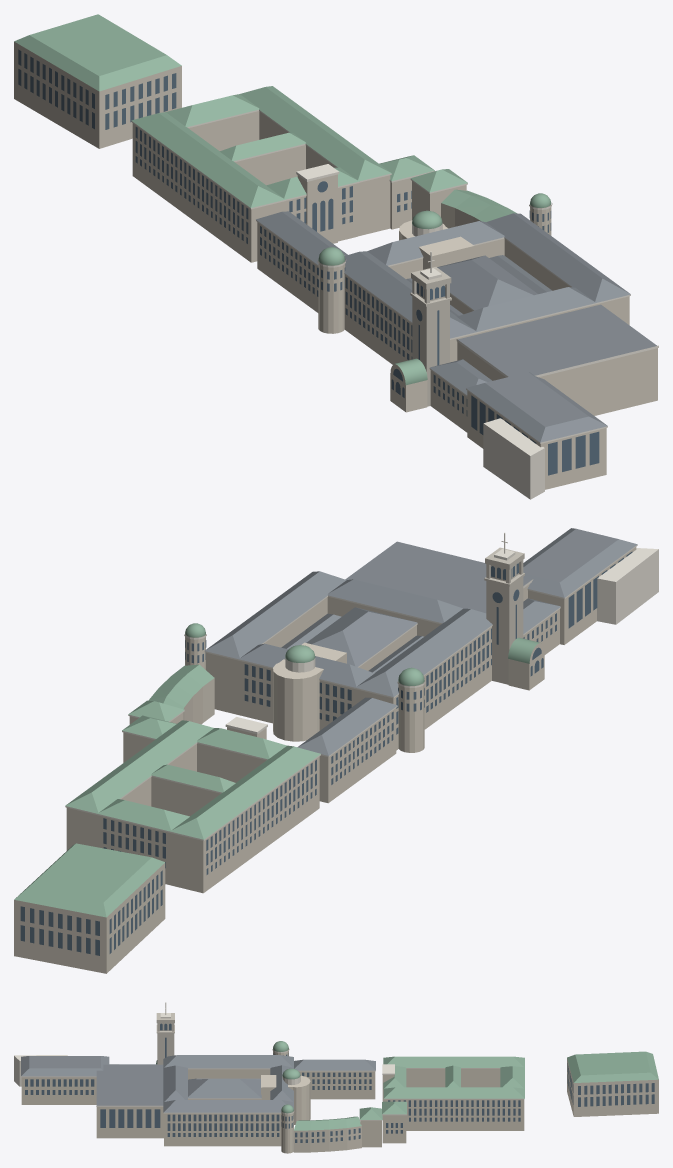
File: munich-deutsches-museum.glb
The picture shows the model from 3 angles, top to bottom: view 1: azimuth 30°, elevation 25°; view 2: azimuth 150°, elevation 25°; view 3: azimuth 270°, elevation 25°; orthographic projection. The views are drawn at different scales.
Parts seen in each view (by area): view 1: Deutsches Museum; view 2: Deutsches Museum; view 3: Deutsches Museum.
Part boxes in pixels (x1,y1,x2,y2): Deutsches Museum: (14, 14, 658, 499); Deutsches Museum: (14, 528, 658, 973); Deutsches Museum: (14, 1002, 658, 1153).
Size of the model in its own units: 126 by 69 by 464.
